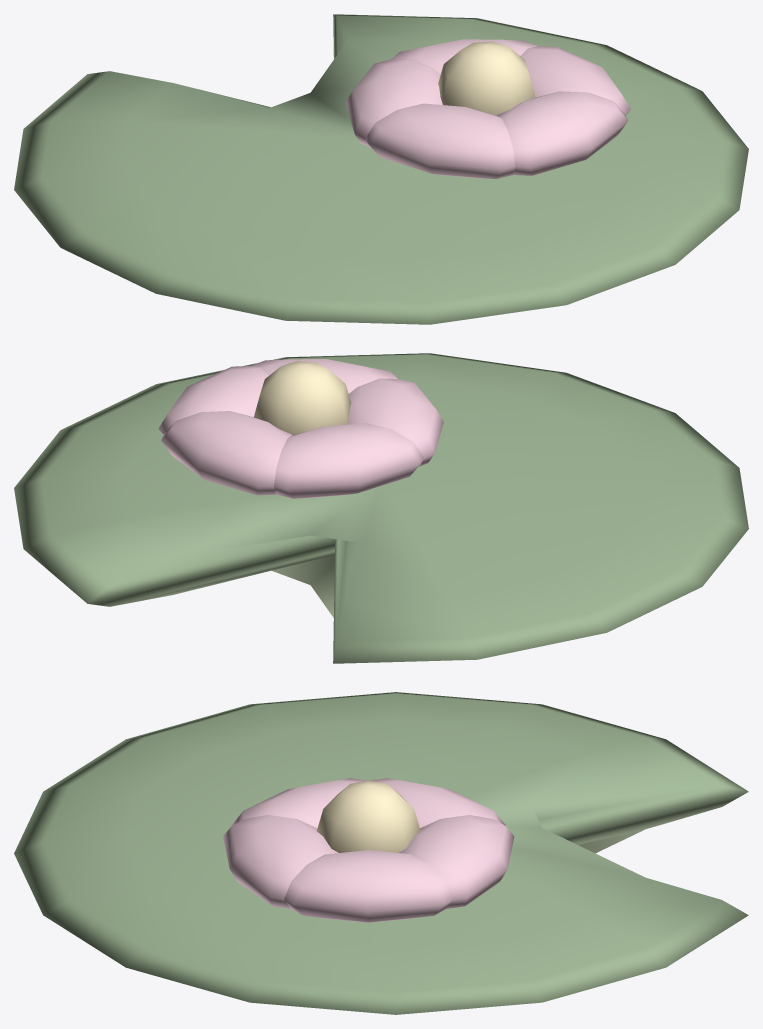
Rendered from lily.glb.
The picture shows the model from 3 angles, top to bottom: view 1: azimuth 30°, elevation 25°; view 2: azimuth 150°, elevation 25°; view 3: azimuth 270°, elevation 25°; orthographic projection. The views are drawn at different scales.
Visible parts, largest first — view 1: Pad, Petal.003, Petal.004, FlowerHeart, Petal.002, Petal, Petal.001; view 2: Pad, Petal.002, Petal.001, FlowerHeart, Petal.003, Petal, Petal.004; view 3: Pad, Petal, Petal.004, Petal.001, FlowerHeart, Petal.002, Petal.003.
Part boxes in pixels (x1,y1,x2,y2): Pad: [14, 14, 748, 324]; Petal.003: [365, 103, 515, 178]; Petal.004: [497, 91, 628, 175]; FlowerHeart: [438, 41, 535, 115]; Petal.002: [345, 59, 442, 147]; Petal: [520, 46, 630, 115]; Petal.001: [391, 39, 537, 73]; Pad: [14, 353, 748, 663]; Petal.002: [274, 423, 423, 498]; Petal.001: [161, 411, 292, 495]; FlowerHeart: [254, 361, 351, 435]; Petal.003: [346, 378, 443, 466]; Petal: [158, 365, 268, 434]; Petal.004: [251, 359, 397, 393]; Pad: [14, 692, 748, 1014]; Petal: [284, 850, 453, 922]; Petal.004: [223, 815, 338, 908]; Petal.001: [399, 815, 514, 908]; FlowerHeart: [317, 780, 420, 852]; Petal.002: [370, 778, 505, 828]; Petal.003: [231, 778, 366, 828].
Size of the model in its own units: 0.56 by 0.1149 by 0.5387.
